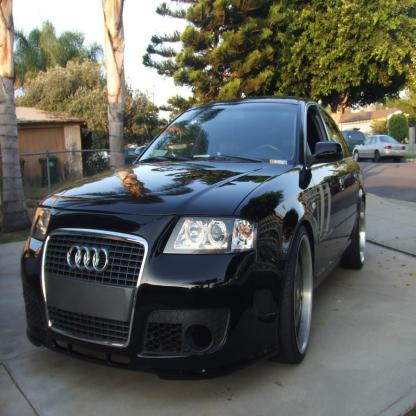Vehicle: (11, 73, 385, 406)
